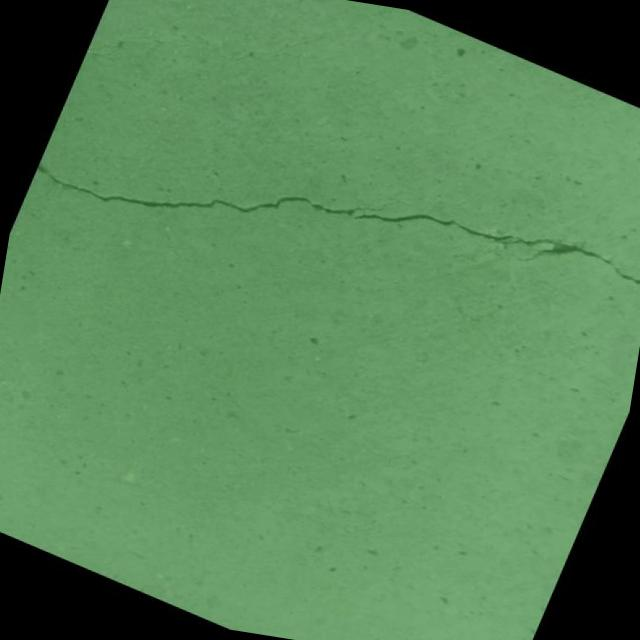crack: (9, 21, 640, 426)
